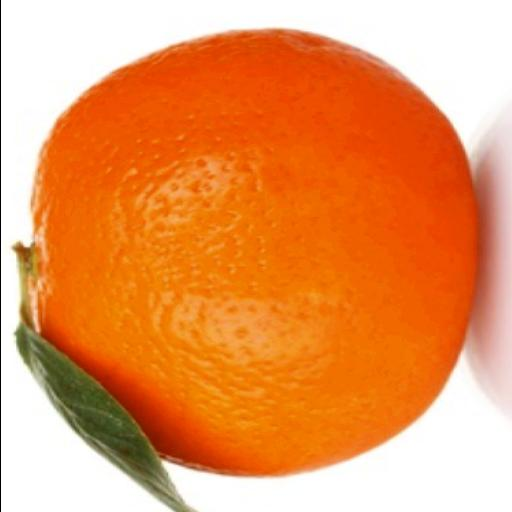orange: (32, 31, 477, 476)
